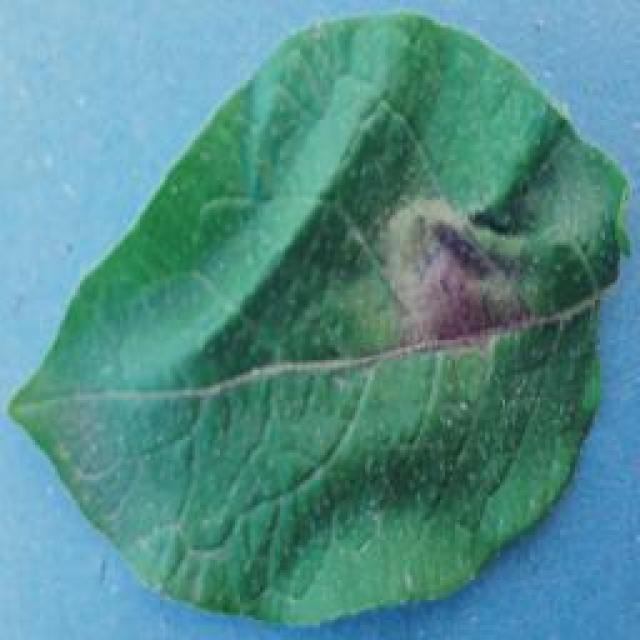Potato_Late_Blight: (2, 4, 632, 635)
